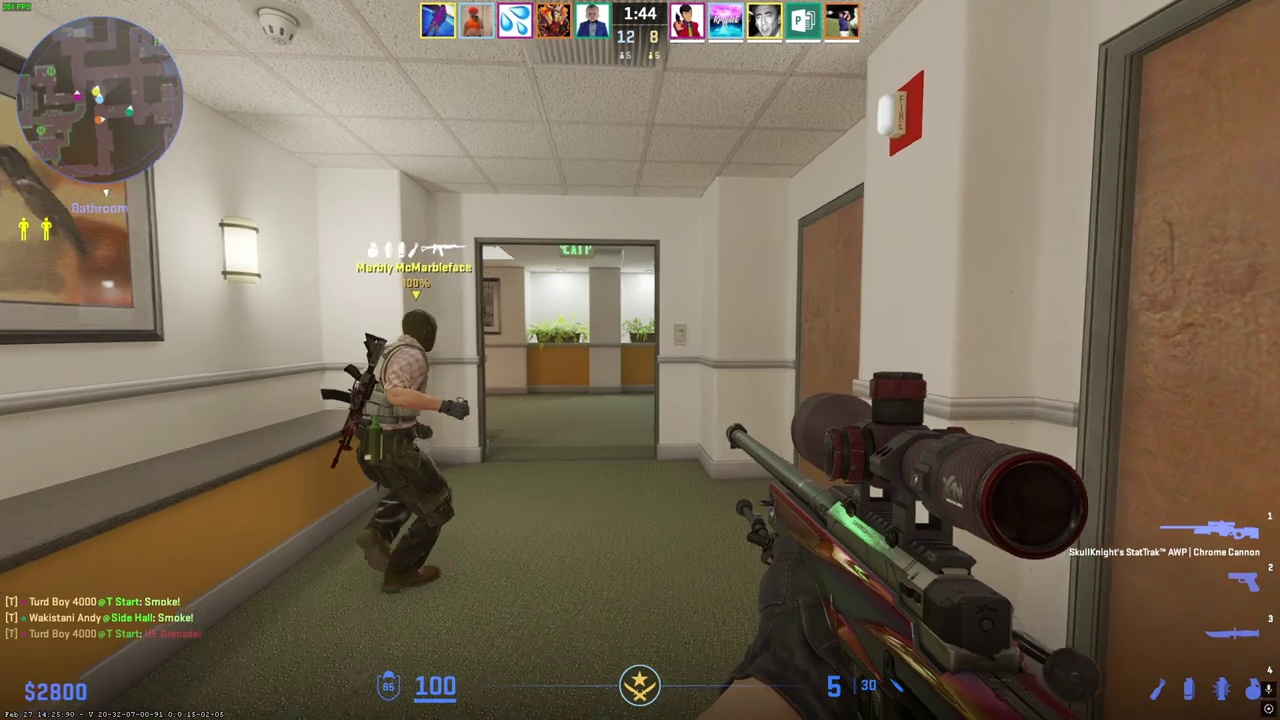Terrorist: (339, 308, 471, 595)
